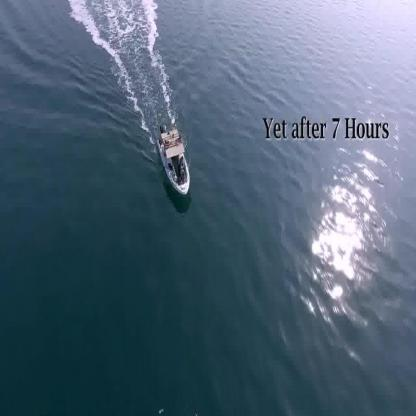Boat: (156, 122, 192, 200)
